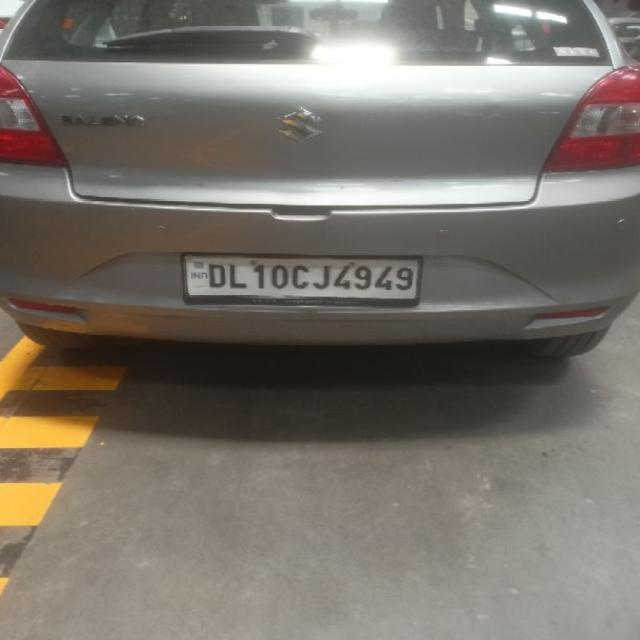license_plate: (180, 252, 422, 306)
